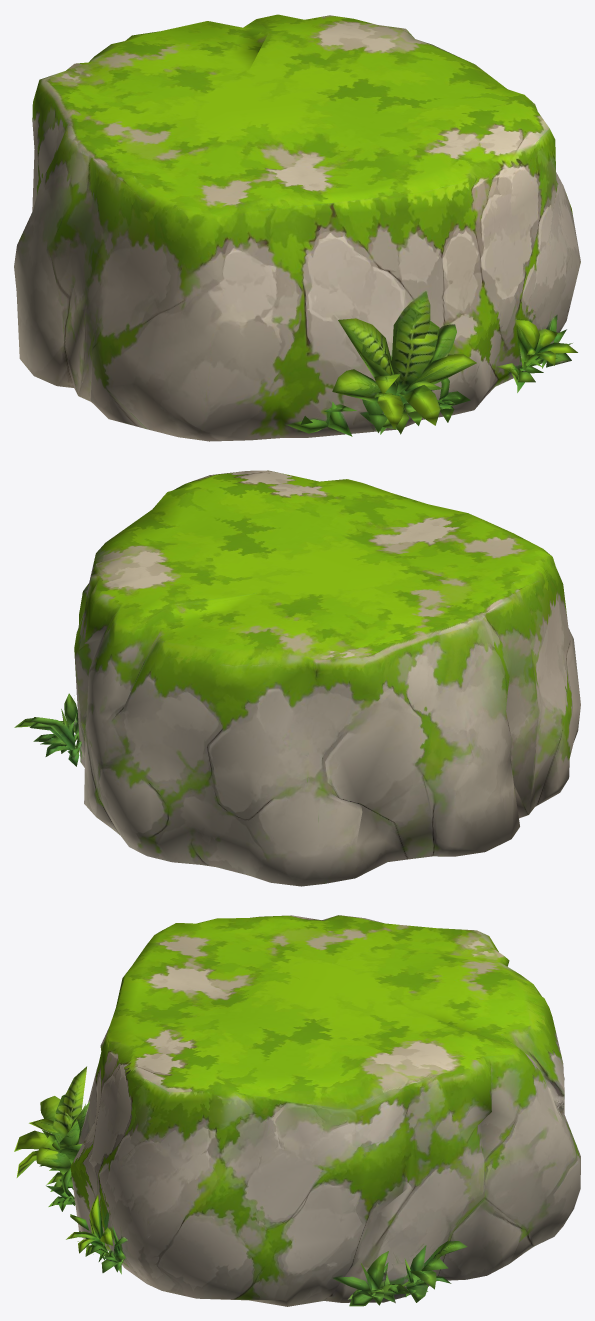
Rendered from RiverStone.fbx.
3 views of the same model, one above another, from view 1: azimuth 30°, elevation 25°; view 2: azimuth 150°, elevation 25°; view 3: azimuth 270°, elevation 25° (orthographic). The views are drawn at different scales.
Parts seen in each view (by area): view 1: RiverStone; view 2: RiverStone; view 3: RiverStone.
Boxes of the visible parts, x1=… form: RiverStone: x1=14, y1=14, x2=580, y2=441; RiverStone: x1=14, y1=470, x2=580, y2=886; RiverStone: x1=14, y1=915, x2=580, y2=1306.
Bounding box in the file's own units: 0.9137 × 0.4109 × 1.
1 material, 1 textured.
